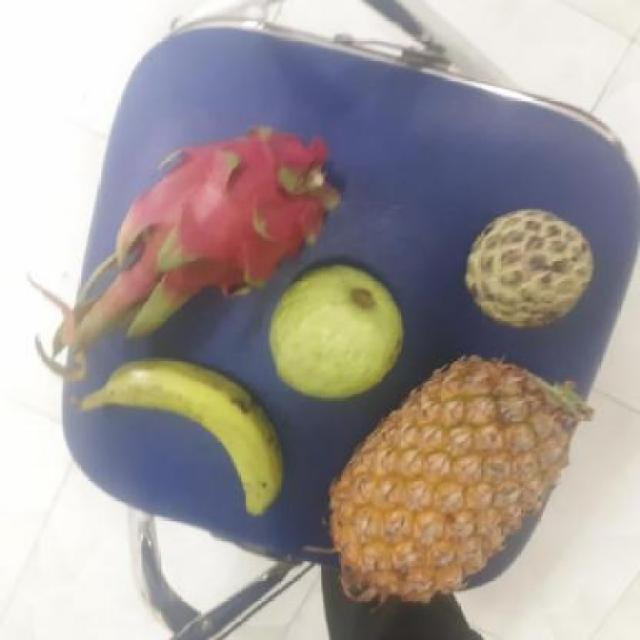dragon fruit: (123, 127, 337, 298)
guava: (262, 262, 404, 396)
oren: (68, 340, 288, 531)
pineapple: (325, 358, 577, 604)
sugar apple: (460, 208, 594, 326)
